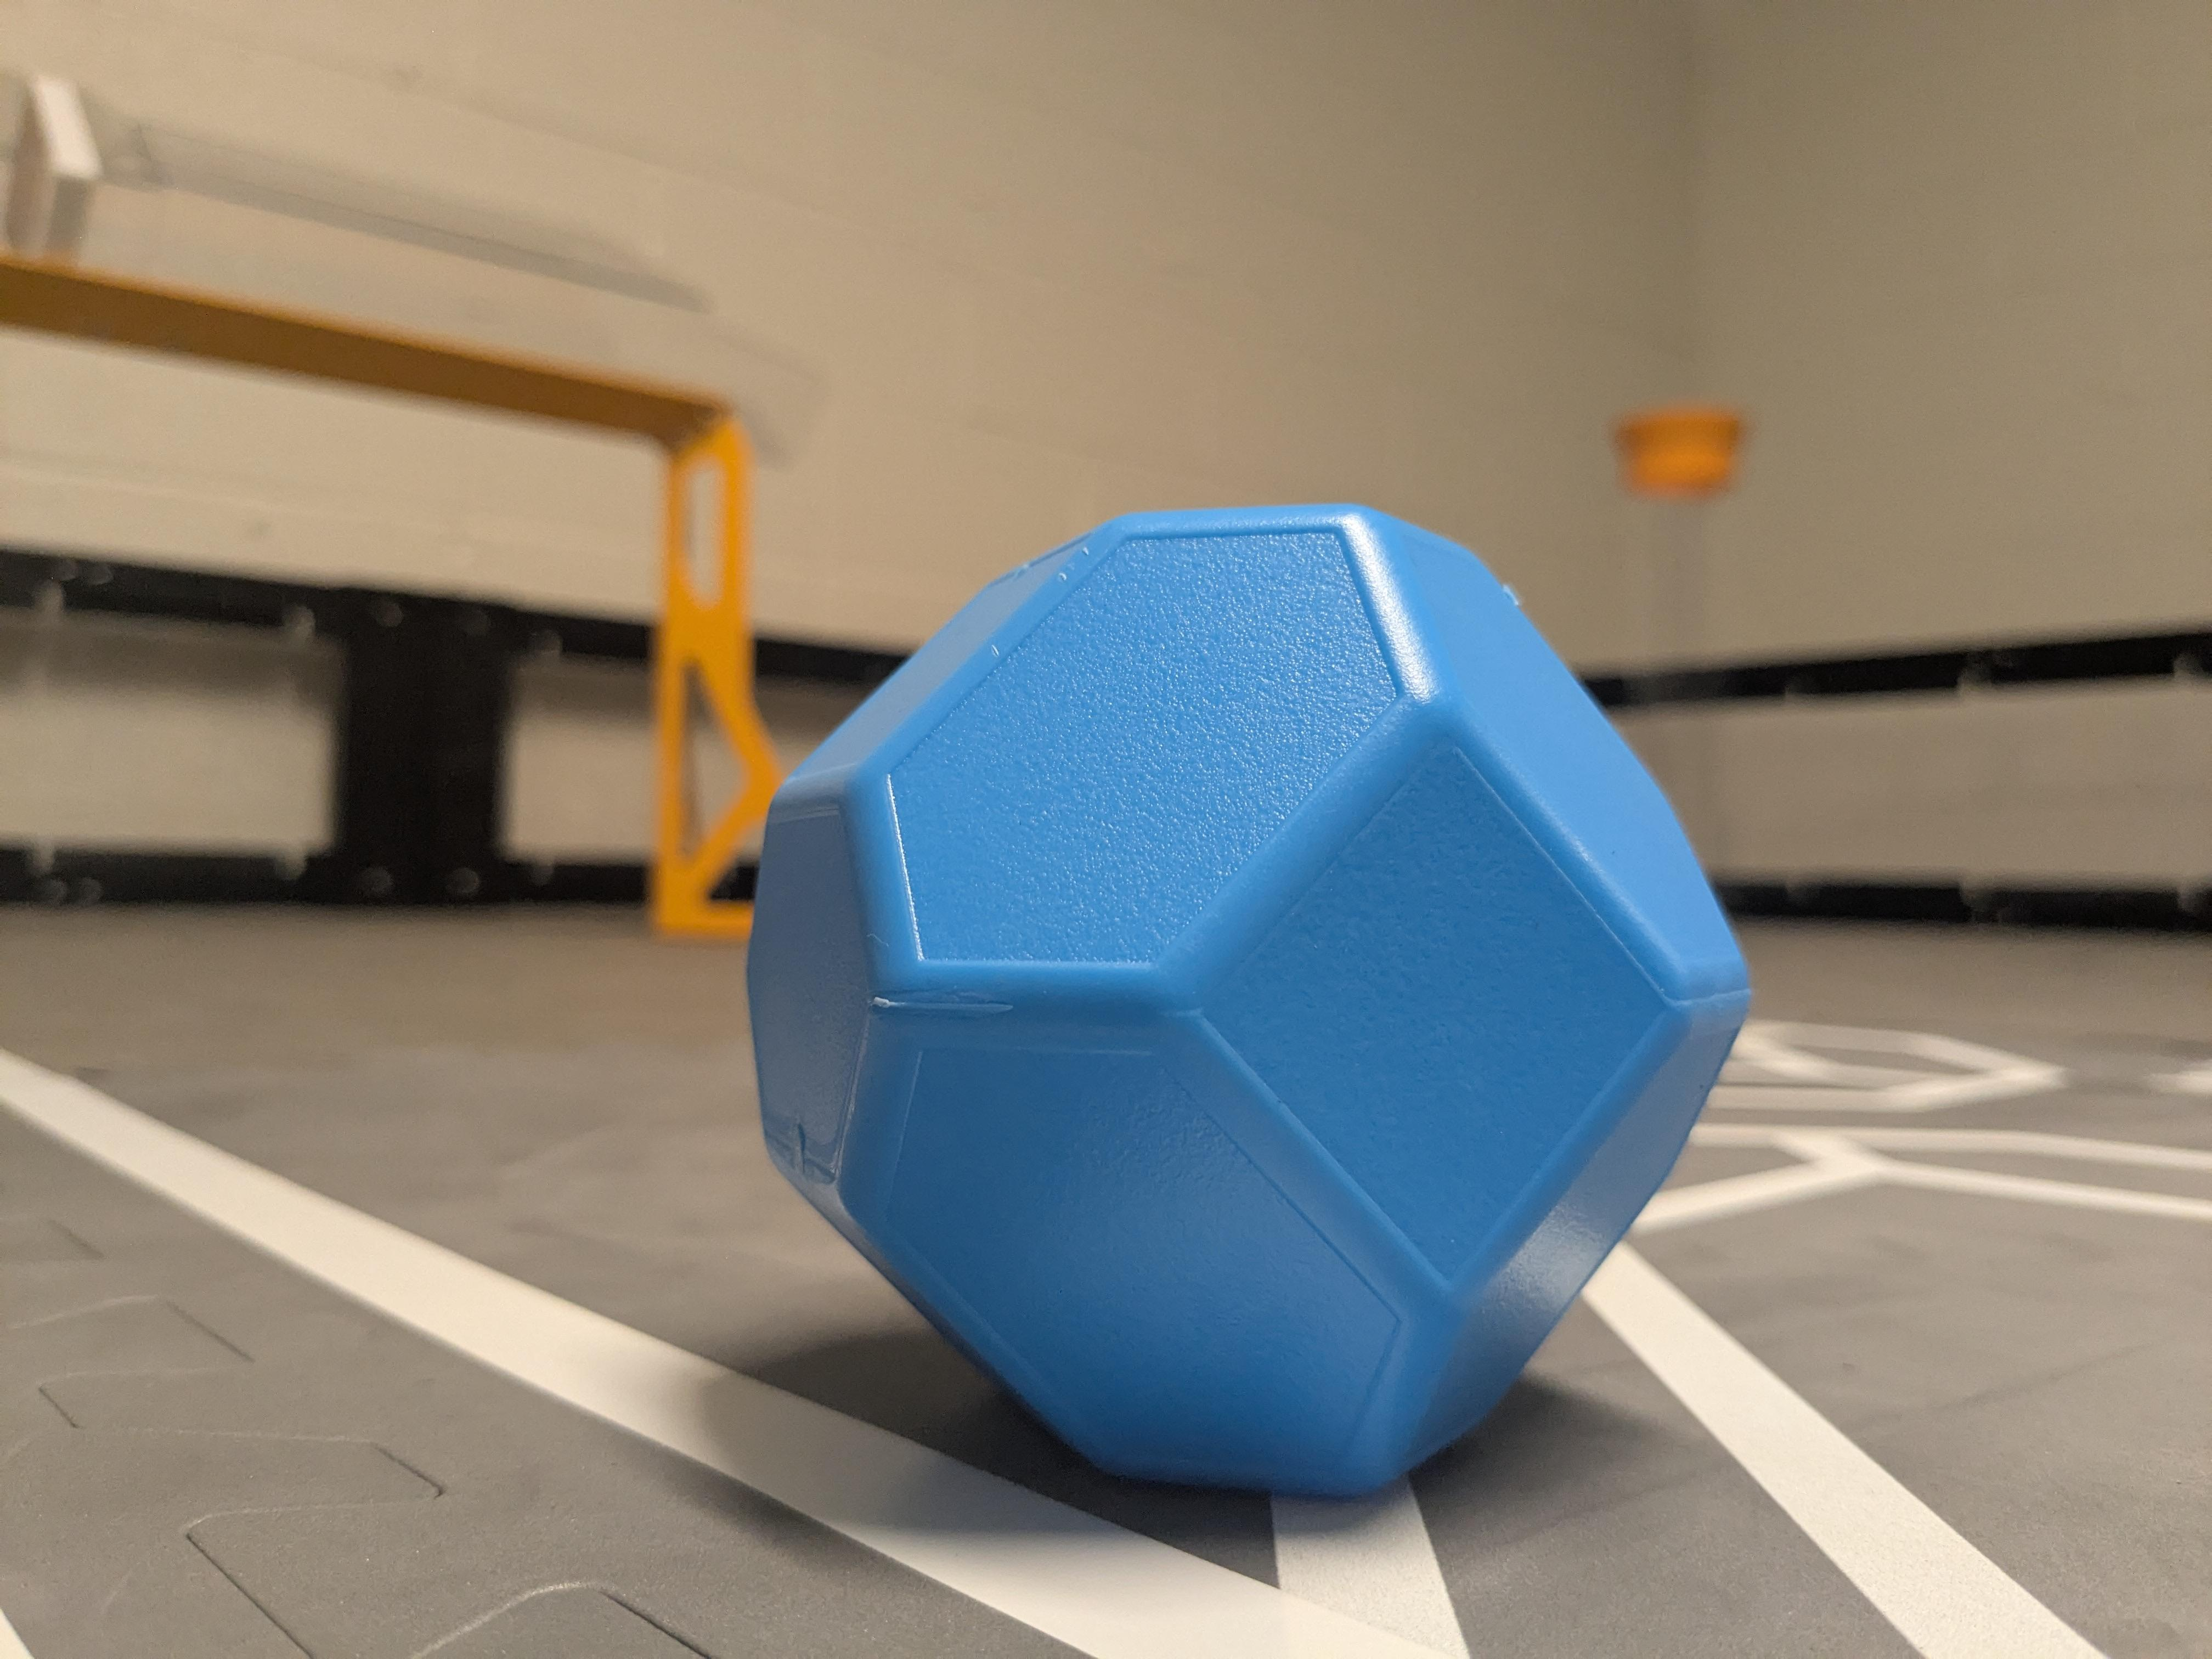Vex-Pieces-BLUE: (747, 505, 1747, 1497)
